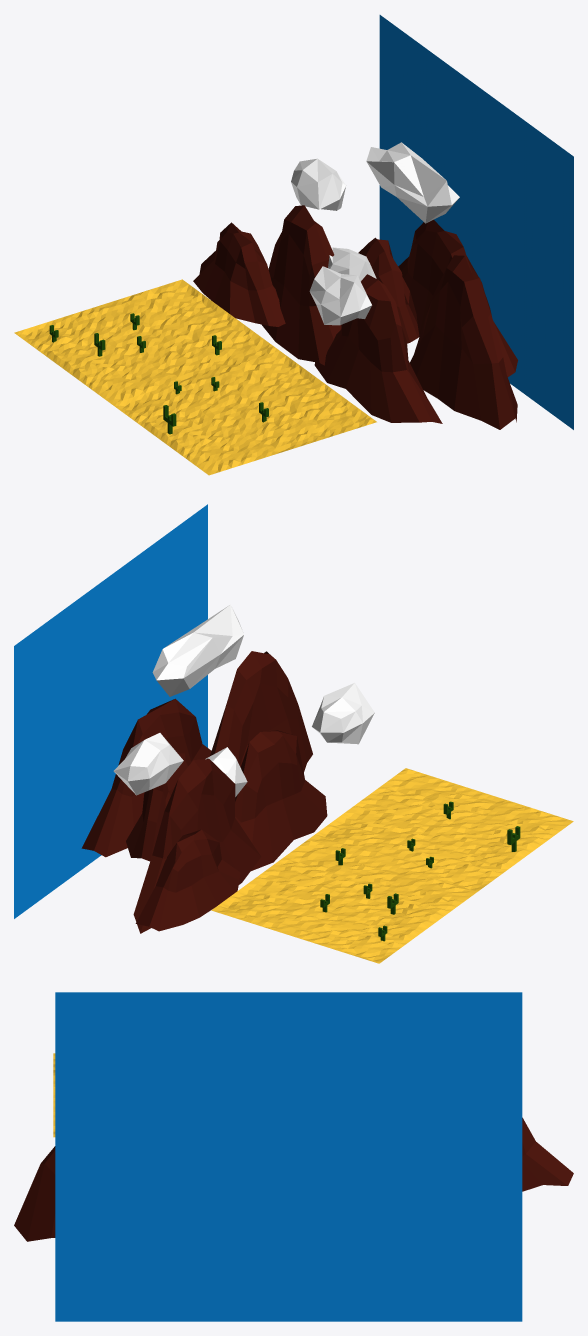
The model's file is Map2.FBX.
The picture shows the model from 3 angles, top to bottom: view 1: azimuth 30°, elevation 25°; view 2: azimuth 150°, elevation 25°; view 3: azimuth 270°, elevation 25°; orthographic projection. The views are drawn at different scales.
Visible parts, largest first — view 1: Plane002, Plane003, Plane001, Box013, Box012, Box003, Box002, Box020, Box014, Box019, Box001, Box005 (+1 smaller); view 2: Plane002, Plane003, Plane001, Box012, Box003, Box013, Box002, Box014, Box020, Box019, Box005, Box001 (+1 smaller); view 3: Plane002, Box013, Box002.
Part boxes in pixels (x1,y1,x2,y2): Plane002: [379, 15, 573, 429]; Plane003: [111, 351, 376, 475]; Plane001: [14, 279, 279, 403]; Box013: [410, 255, 517, 429]; Box012: [314, 274, 442, 423]; Box003: [261, 205, 341, 365]; Box002: [193, 222, 285, 326]; Box020: [366, 142, 459, 223]; Box014: [398, 219, 517, 376]; Box019: [309, 266, 371, 325]; Box001: [358, 237, 419, 343]; Box005: [291, 158, 345, 210]; Plane002: [14, 504, 207, 918]; Plane003: [309, 768, 573, 892]; Plane001: [211, 839, 476, 963]; Box012: [235, 730, 327, 870]; Box003: [133, 758, 261, 933]; Box013: [210, 651, 312, 772]; Box002: [135, 829, 240, 931]; Box014: [81, 698, 211, 857]; Box020: [152, 604, 243, 696]; Box019: [312, 683, 374, 744]; Box005: [113, 733, 183, 795]; Box001: [126, 753, 190, 861]; Plane002: [55, 992, 522, 1321]; Box013: [14, 1146, 55, 1241]; Box002: [522, 1117, 573, 1191].
Size of the model in its own units: 4333 by 3098 by 4778.
